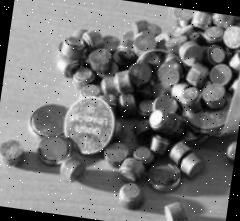electronic: (56, 88, 123, 162), (143, 158, 187, 198), (144, 108, 180, 134)
